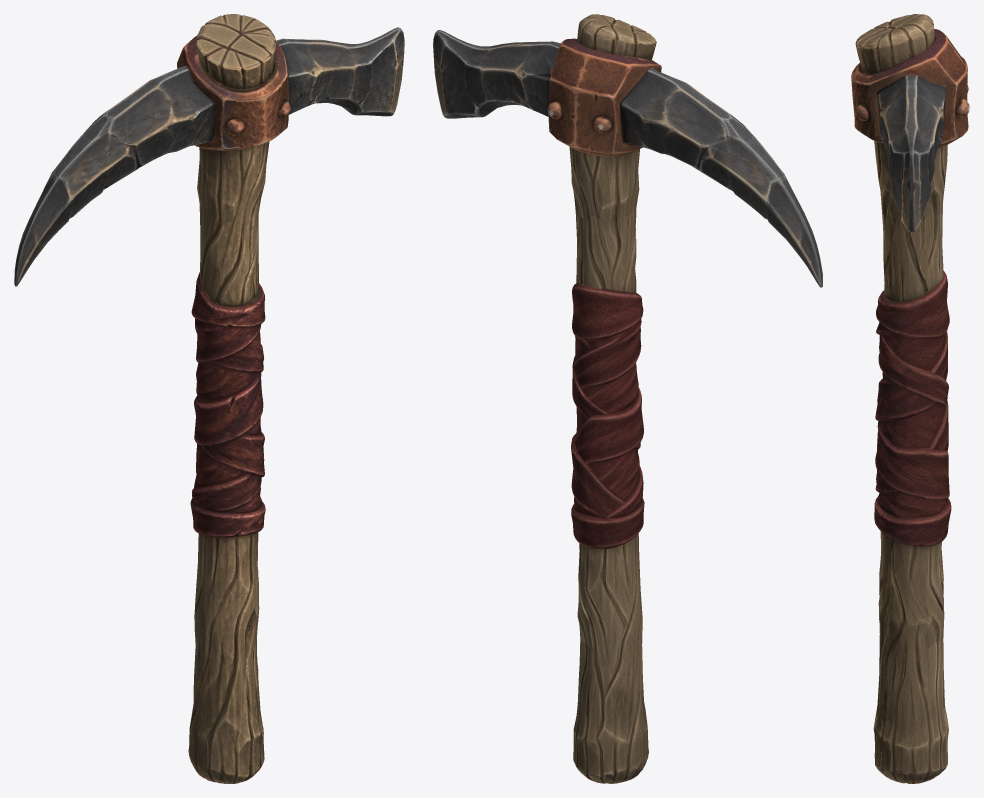
Rendered from pioche.glb.
The picture shows the model from 3 angles, left to right: view 1: azimuth 30°, elevation 25°; view 2: azimuth 150°, elevation 25°; view 3: azimuth 270°, elevation 25°; orthographic projection.
Parts seen in each view (by area): view 1: output_unwrapped; view 2: output_unwrapped; view 3: output_unwrapped.
Part boxes in pixels (x1=…): output_unwrapped: x1=14, y1=14, x2=404, y2=783; output_unwrapped: x1=433, y1=14, x2=822, y2=783; output_unwrapped: x1=851, y1=14, x2=969, y2=783.
Bounding box in the file's own units: 1.02 × 1.9 × 0.2683.
Materials: 1 (1 with a texture image).
